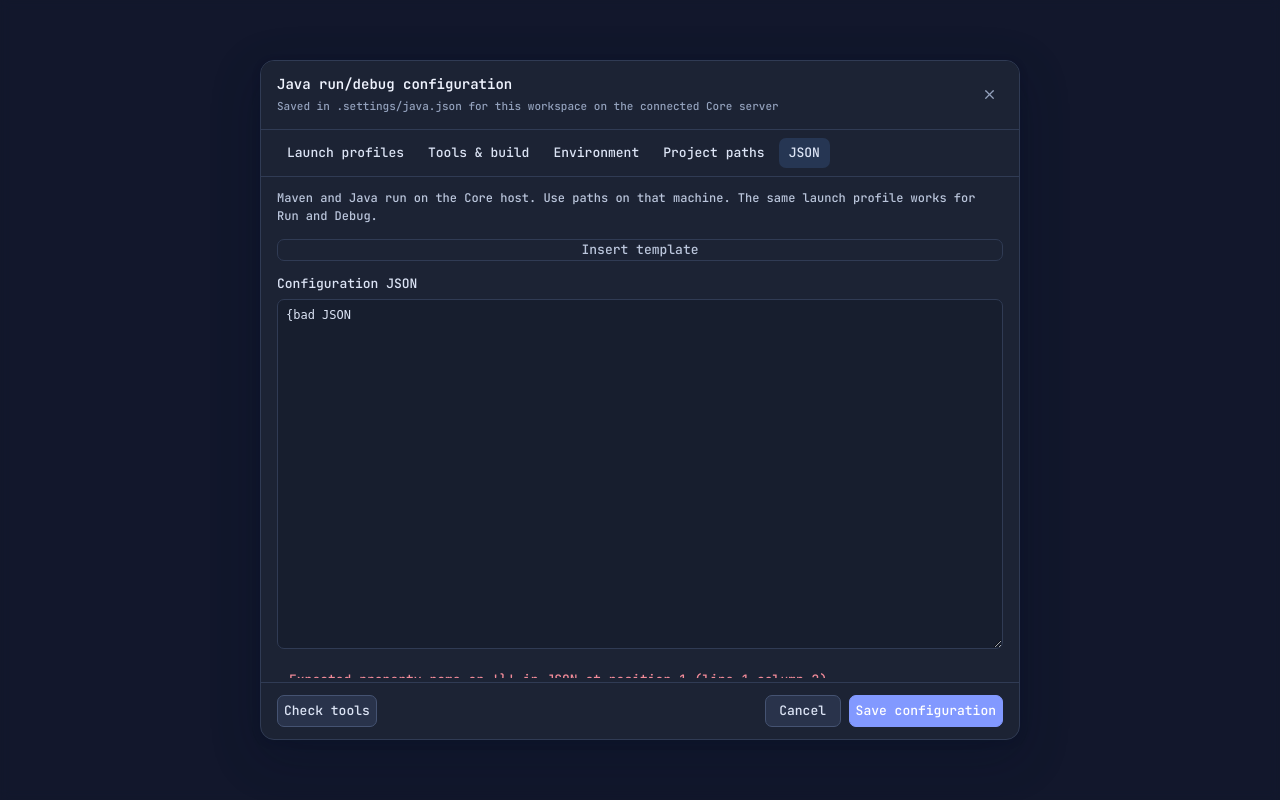
Scenario: keeps invalid JSON editable and offers a repair template
Expected: the text box labelled "Configuration JSON" holds "{bad JSON", left=277, top=299, right=1003, bottom=649
Click the button "Insert template": coordinates (640, 250) left=277, top=239, right=1003, bottom=261
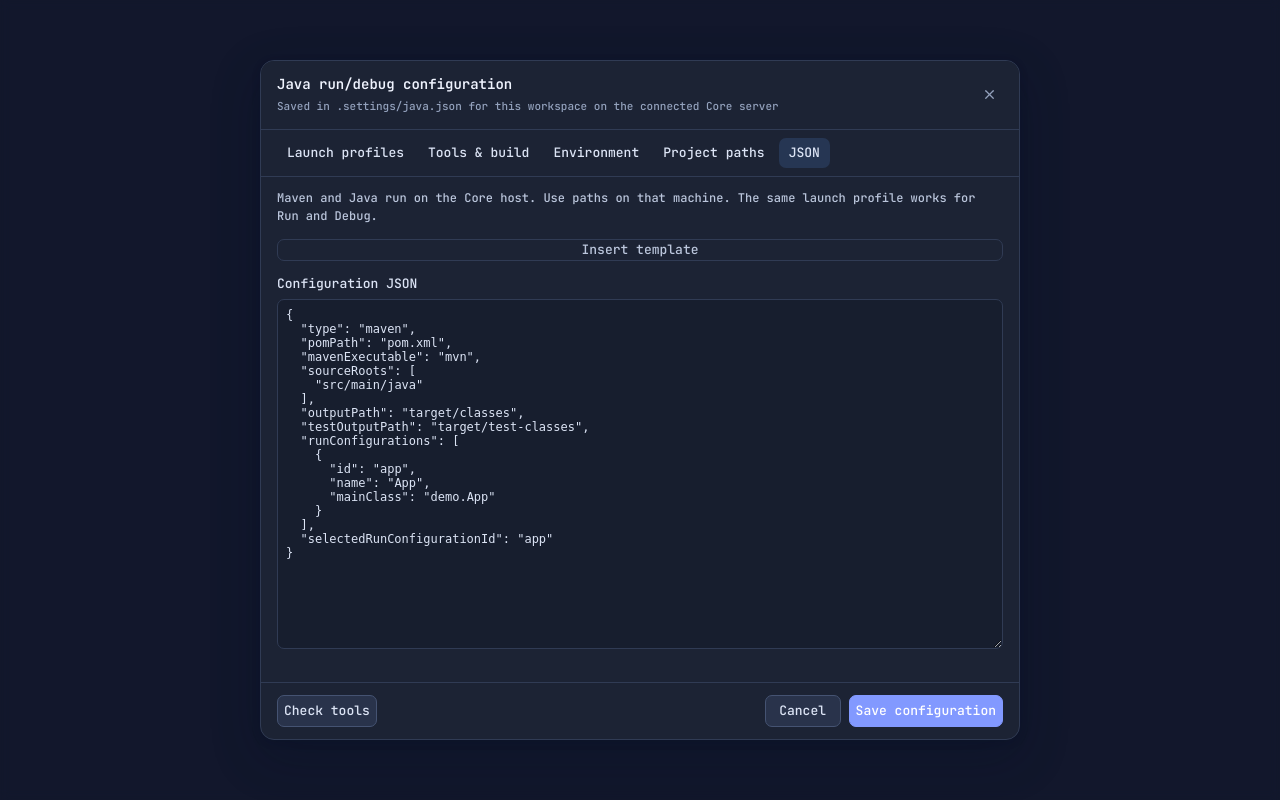
Click the tab "Tools & build": coordinates (479, 153) left=418, top=138, right=539, bottom=168
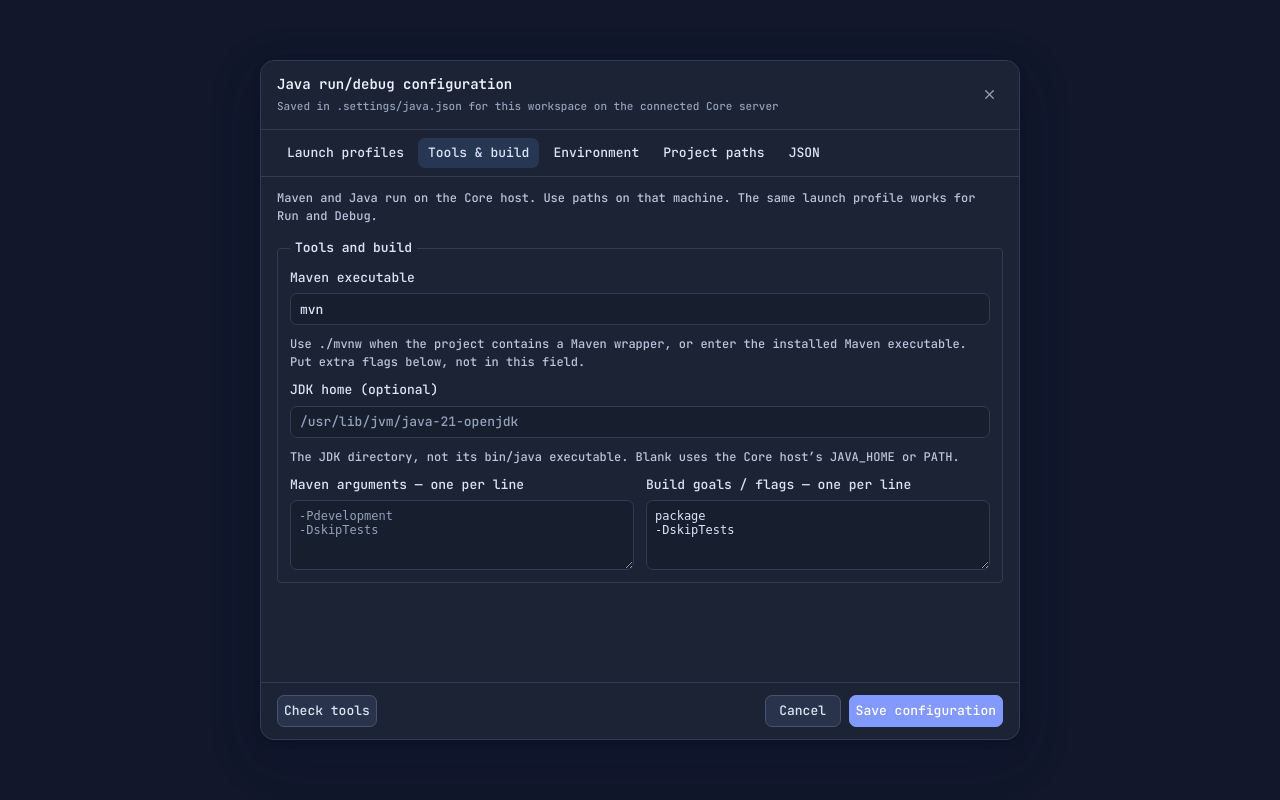
Result: the field labelled "Maven executable" holds "mvn" at left=290, top=293, right=990, bottom=325
